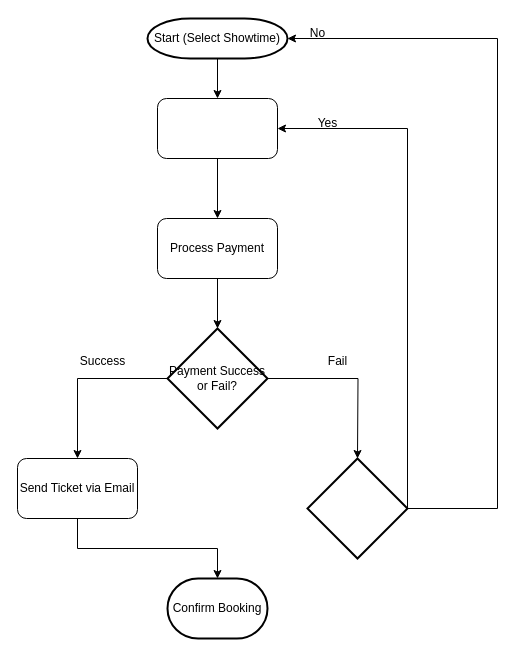
This 523x656 diagram has some shape labels left out. Here are the shapes that lost their labels. From the top down, the centre of each, then its label:
At [217,128]: "Enter Payment Details".
At [357,508]: "Retry Payment".
